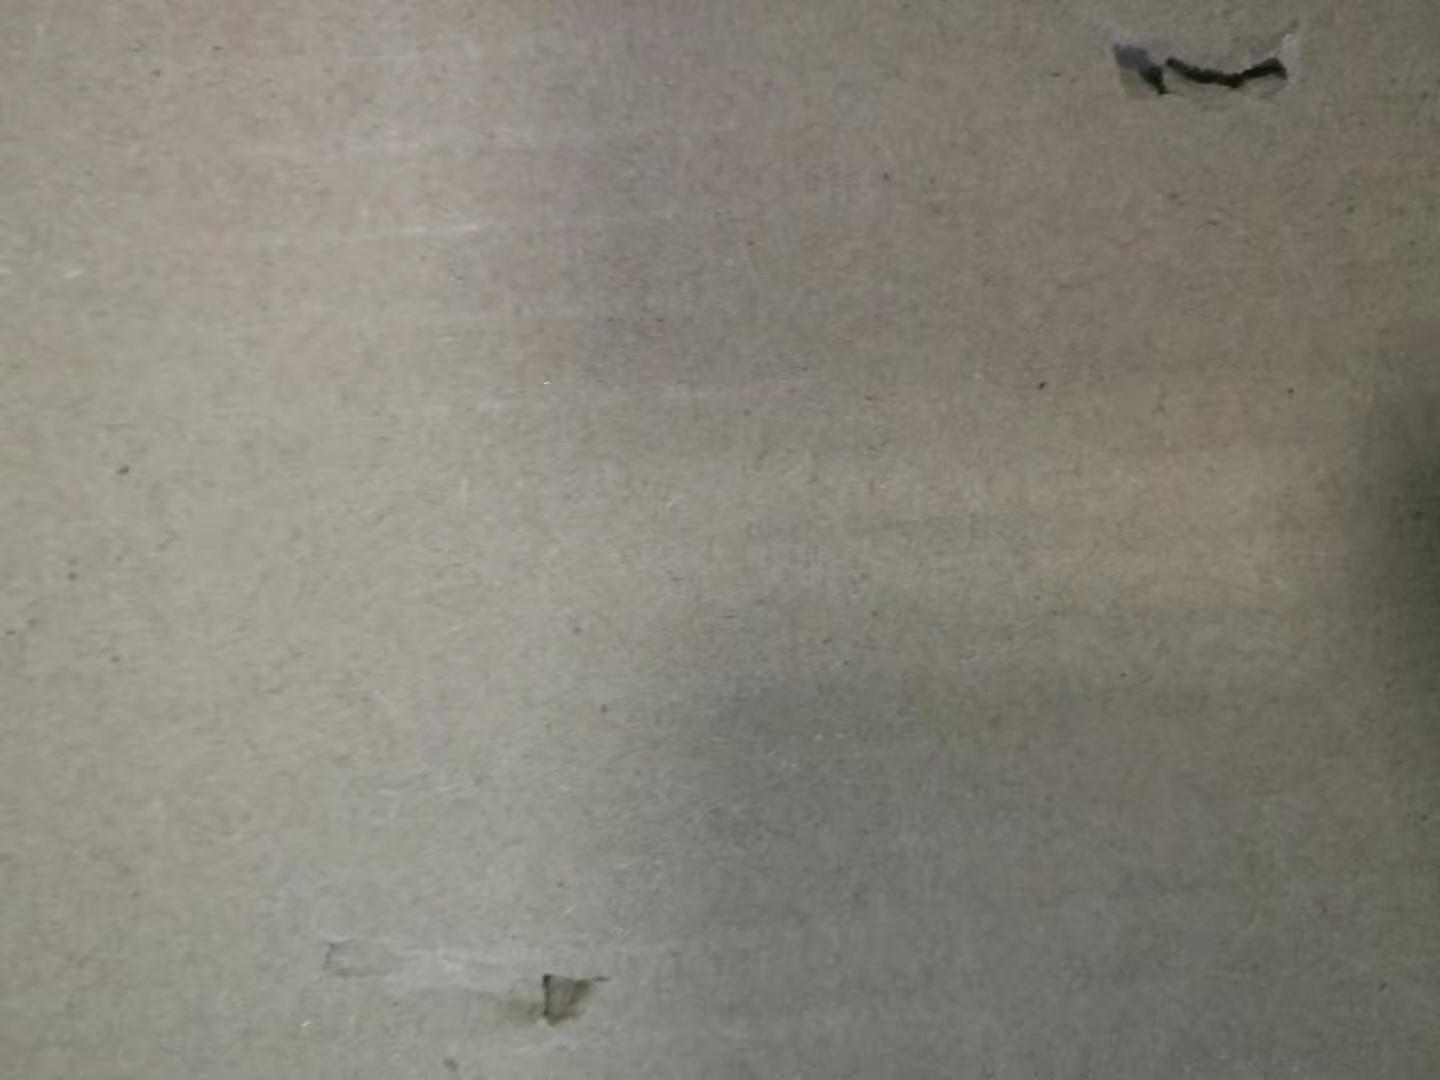defect: (296, 910, 643, 1056), (1071, 12, 1328, 133)
